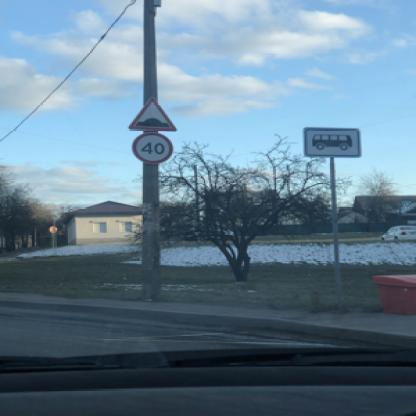Speed Limit 40: (132, 131, 174, 164)
